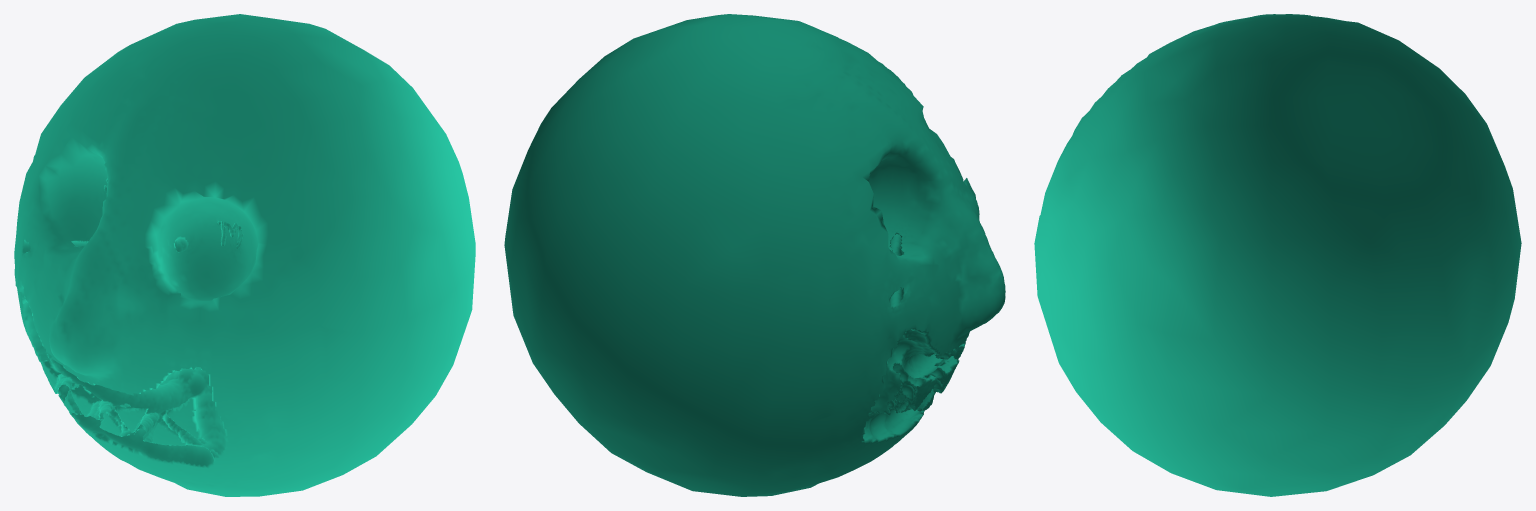
3 views of the same model, side by side, from view 1: azimuth 30°, elevation 25°; view 2: azimuth 150°, elevation 25°; view 3: azimuth 270°, elevation 25° (orthographic). The views are drawn at different scales.
Parts seen in each view (by area): view 1: 1_Node; view 2: 1_Node; view 3: 1_Node.
Part boxes in pixels (x1,y1,x2,y2): 1_Node: (14,14,475,496); 1_Node: (504,14,1005,496); 1_Node: (1034,14,1521,496).
Bounding box in the file's own units: 440 × 430 × 429.
